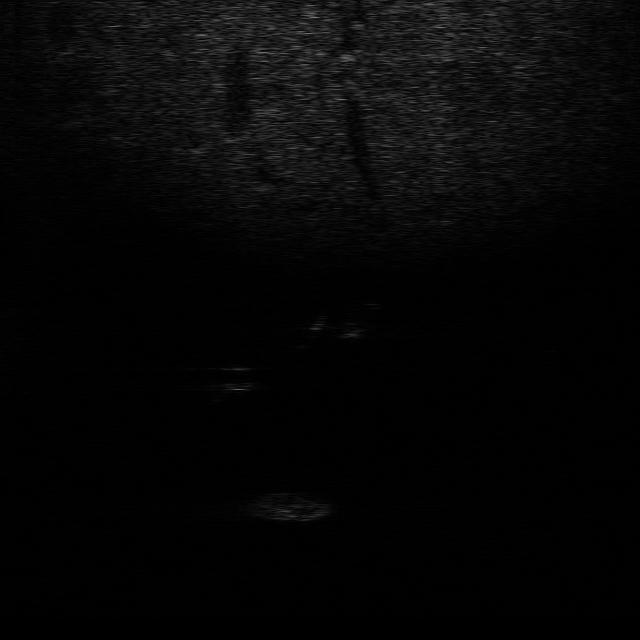ball: (206, 362, 262, 394)
circle cage: (236, 488, 335, 526)
human body: (294, 300, 388, 357)
